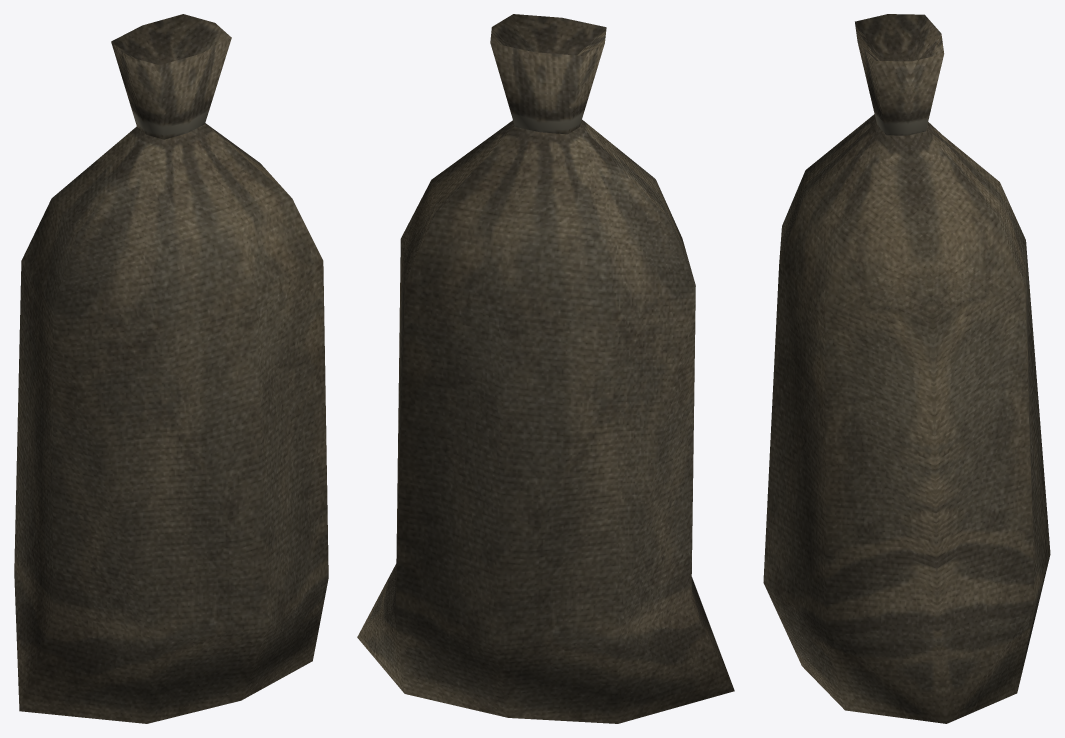
The model's file is bag.glb.
3 renders of one model, left to right at view 1: azimuth 30°, elevation 25°; view 2: azimuth 150°, elevation 25°; view 3: azimuth 270°, elevation 25°, orthographic. The views are drawn at different scales.
Parts seen in each view (by area): view 1: Bag; view 2: Bag; view 3: Bag.
Boxes of the visible parts, left/top/right/bottom form: Bag: left=14, top=14, right=328, bottom=723; Bag: left=357, top=14, right=734, bottom=723; Bag: left=763, top=14, right=1050, bottom=723.
Size of the model in its own units: 0.408 by 0.7377 by 0.3099.
Materials: 1 (1 with a texture image).
